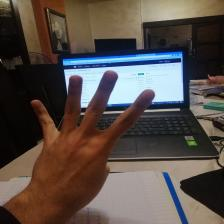four: (28, 69, 157, 203)
